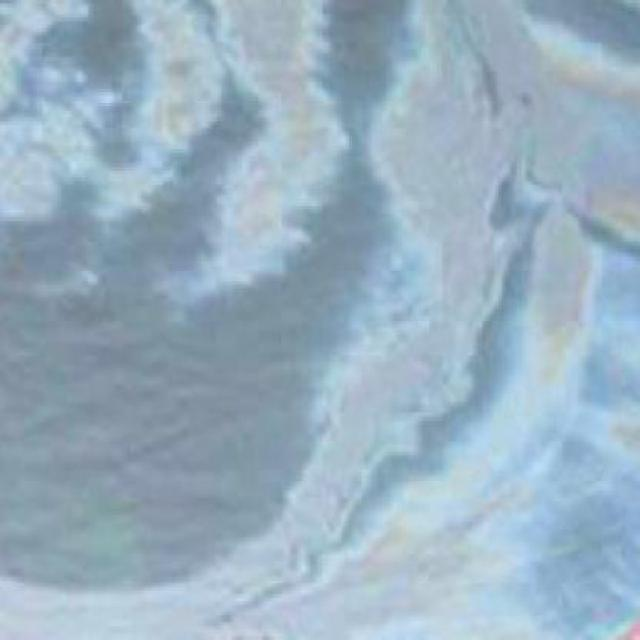sheen: (0, 3, 639, 640), (2, 0, 349, 297)
